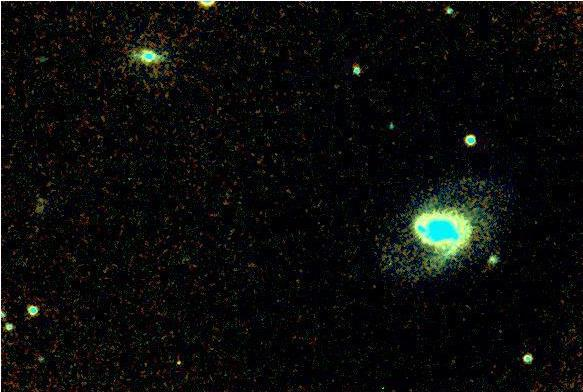star: (164, 349, 194, 379)
